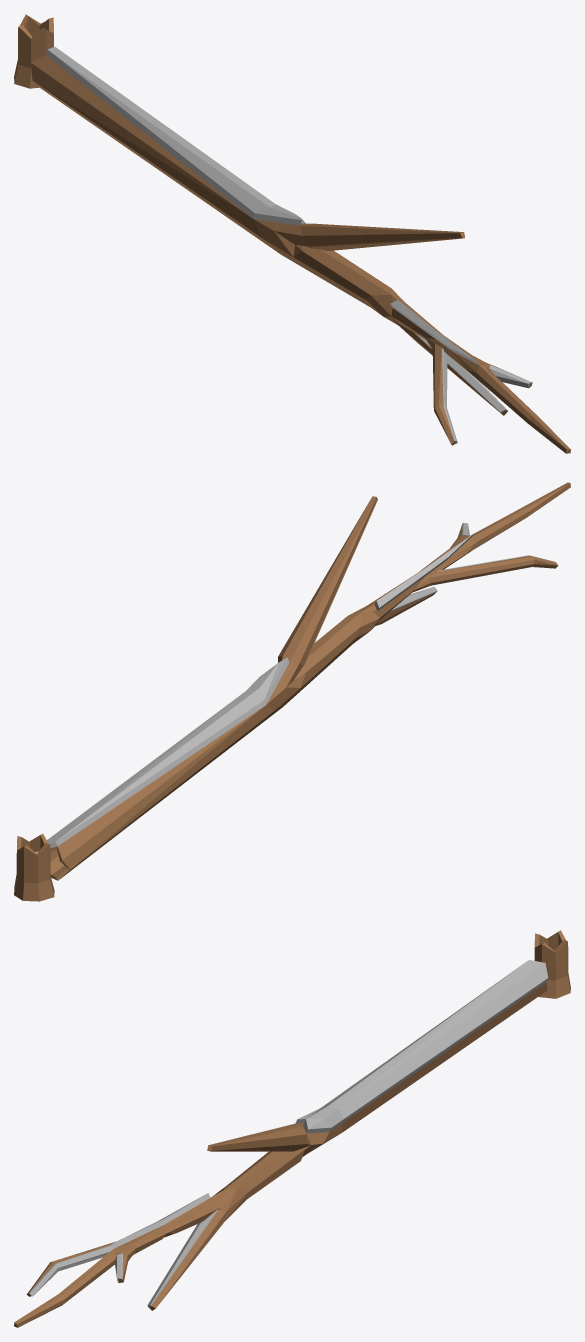
The model's file is Tree_6 Broken Winter.fbx.
3 renders of one model, top to bottom at view 1: azimuth 30°, elevation 25°; view 2: azimuth 150°, elevation 25°; view 3: azimuth 330°, elevation 25°, orthographic. The views are drawn at different scales.
Parts seen in each view (by area): view 1: Tree6BrokenWinter_mesh; view 2: Tree6BrokenWinter_mesh; view 3: Tree6BrokenWinter_mesh.
Boxes of the visible parts, x1=… form: Tree6BrokenWinter_mesh: x1=14, y1=14, x2=570, y2=453; Tree6BrokenWinter_mesh: x1=14, y1=482, x2=570, y2=901; Tree6BrokenWinter_mesh: x1=14, y1=930, x2=570, y2=1327.
Size of the model in its own units: 67.02 by 85.5 by 617.
